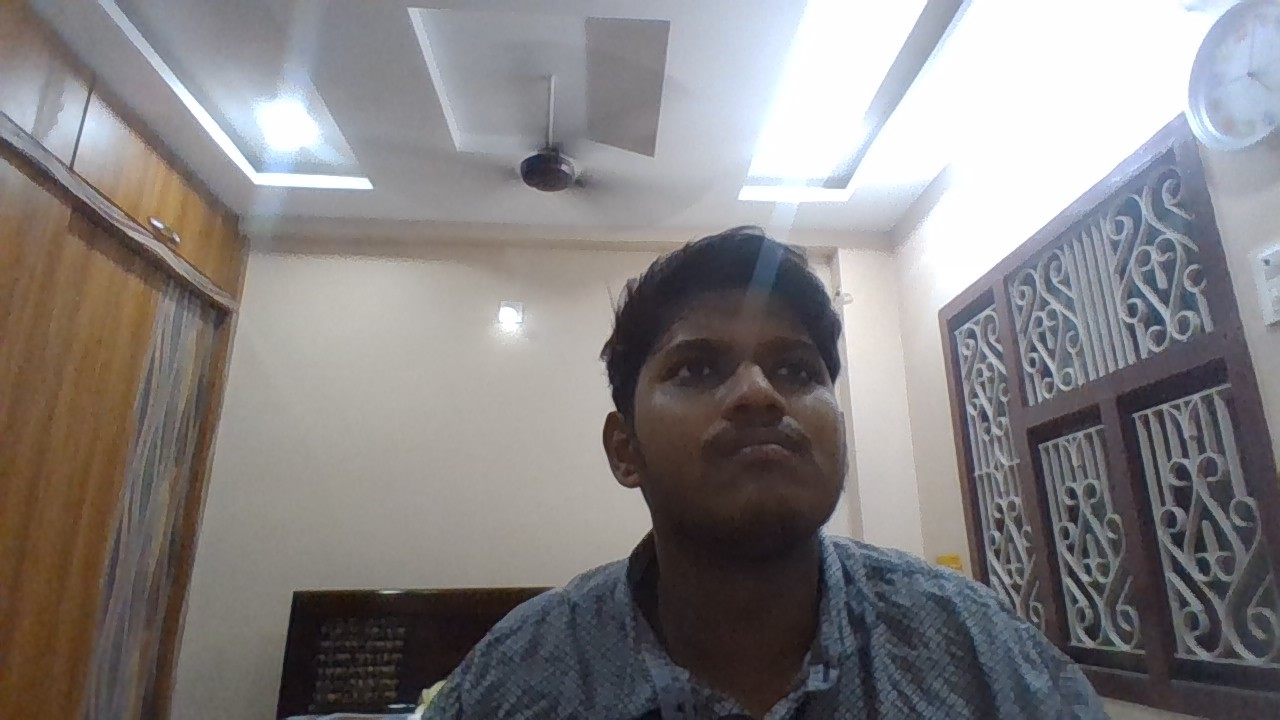person: (526, 140, 1021, 720)
